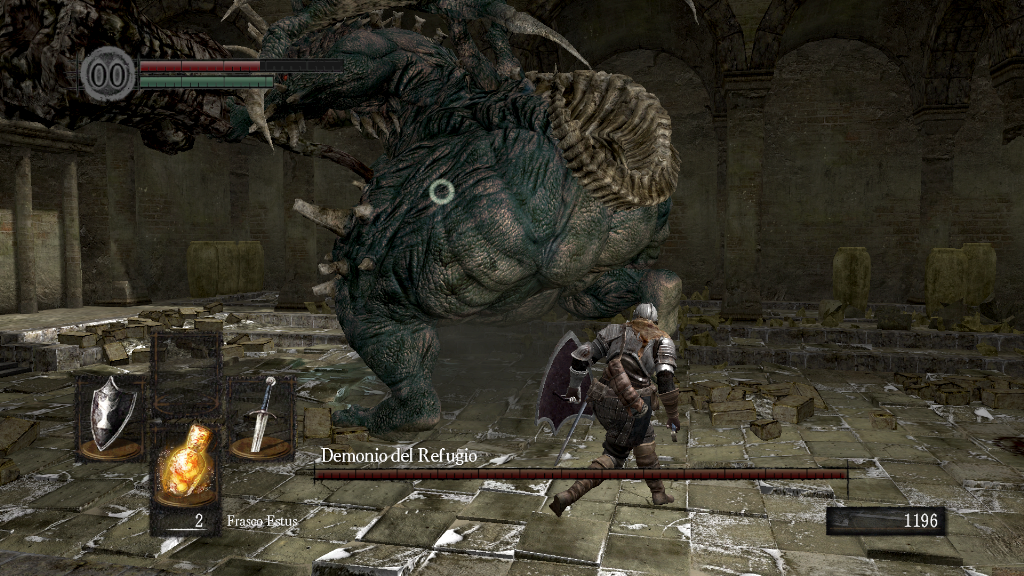asylumDemon: (1, 1, 684, 433)
bossHP: (314, 469, 847, 479)
health: (138, 58, 343, 71)
humanity: (80, 45, 136, 102)
player: (535, 300, 687, 519)
souls: (825, 506, 945, 536)
stamina: (138, 74, 274, 88)
